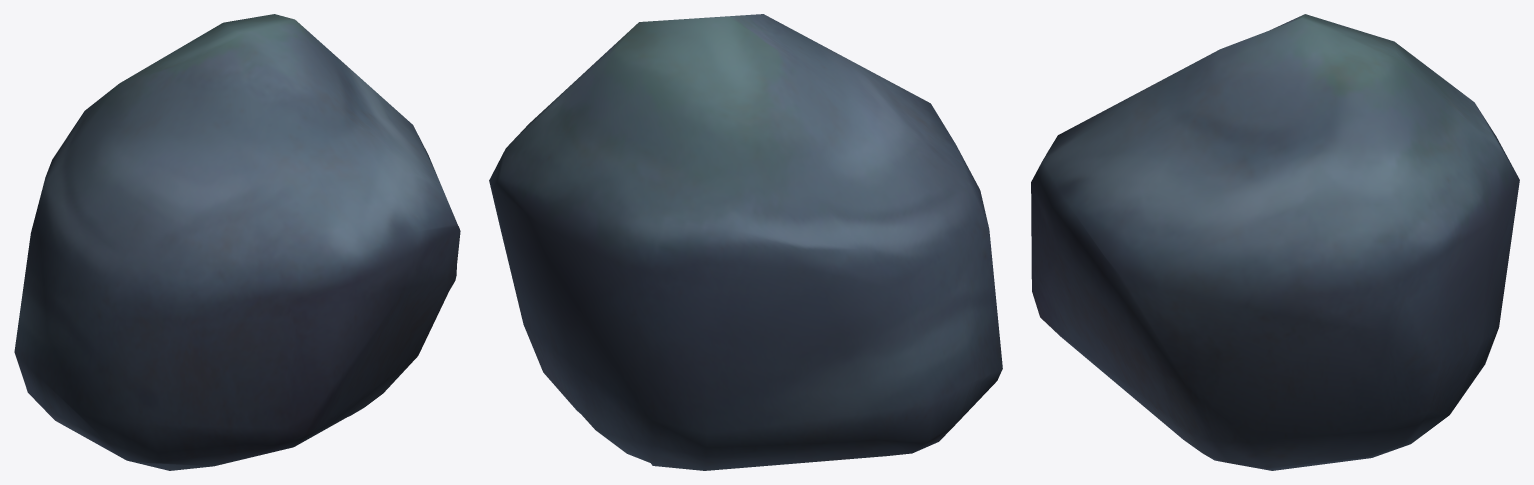
Rendered from rock_v3.glb.
3 views of the same model, side by side, from view 1: azimuth 30°, elevation 25°; view 2: azimuth 150°, elevation 25°; view 3: azimuth 270°, elevation 25° (orthographic). The views are drawn at different scales.
Visible parts, largest first — view 1: rock_lp_var3; view 2: rock_lp_var3; view 3: rock_lp_var3.
Part boxes in pixels (left/top/right/bottom): rock_lp_var3: left=14, top=14, right=460, bottom=470; rock_lp_var3: left=489, top=14, right=1002, bottom=470; rock_lp_var3: left=1031, top=14, right=1519, bottom=470.
Bounding box in the file's own units: 0.507 × 0.4631 × 0.4918.
1 material, 1 textured.
